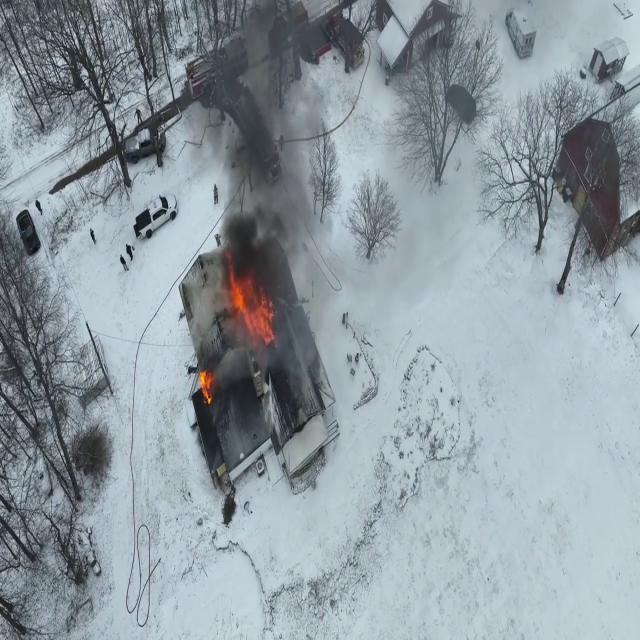Fire: (223, 260, 280, 346), (198, 362, 212, 403)
Smoke: (186, 6, 330, 382)
